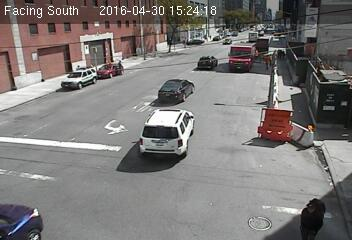neg: (121, 129, 140, 154), (78, 104, 97, 128), (134, 70, 146, 85), (206, 60, 212, 68), (182, 88, 186, 94)
pos: (290, 192, 325, 238), (275, 45, 286, 59)
